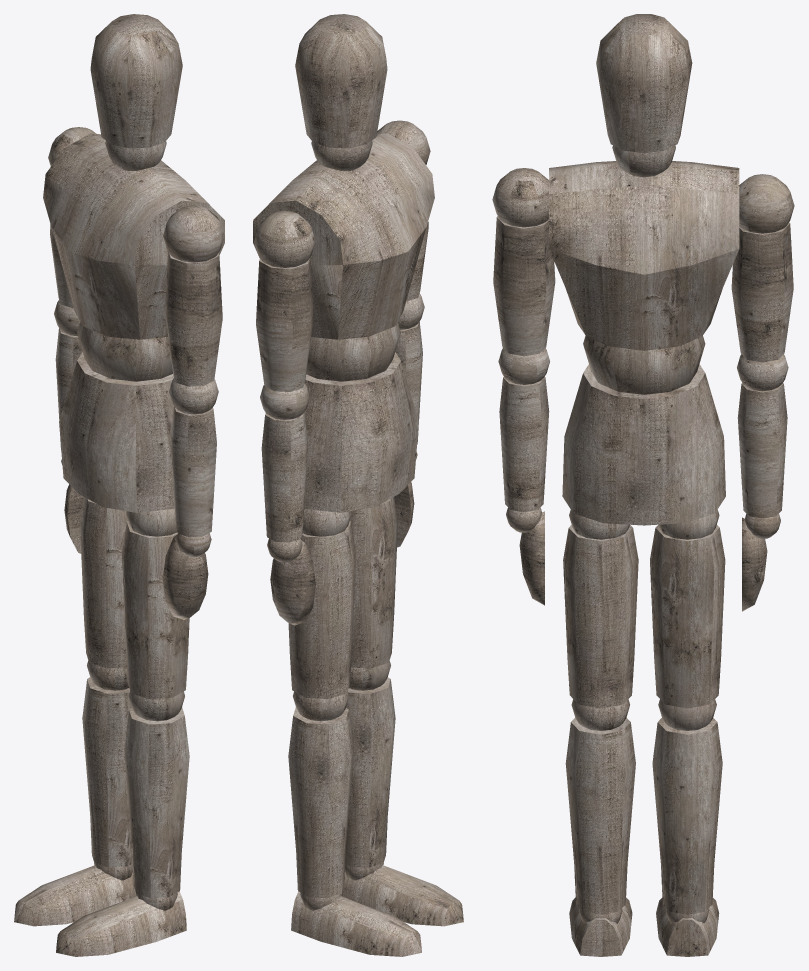
The model's file is maneq.fbx.
3 views of the same model, side by side, from view 1: azimuth 30°, elevation 25°; view 2: azimuth 150°, elevation 25°; view 3: azimuth 270°, elevation 25° (orthographic). The views are drawn at different scales.
Parts seen in each view (by area): view 1: mannequin_low; view 2: mannequin_low; view 3: mannequin_low.
Boxes of the visible parts, x1=… form: mannequin_low: x1=14, y1=14, x2=224, y2=956; mannequin_low: x1=253, y1=14, x2=463, y2=956; mannequin_low: x1=492, y1=14, x2=794, y2=956.
Size of the model in its own units: 0.3971 by 2.07 by 0.6114.
